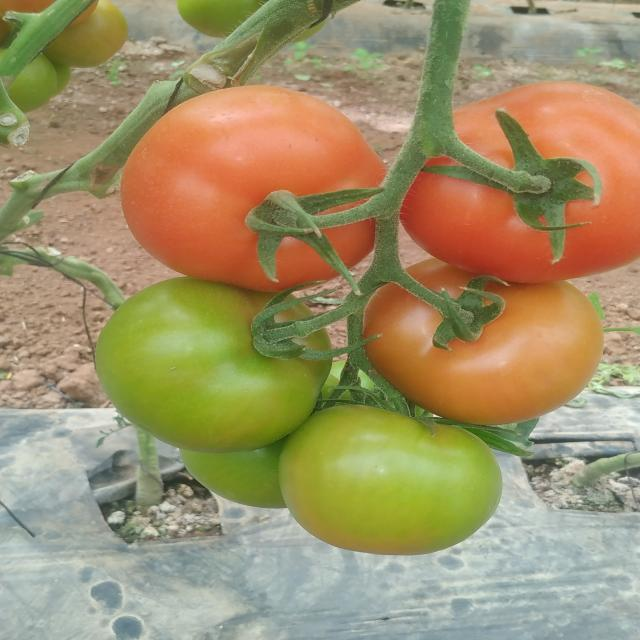Ripe Tomato: (120, 78, 390, 280), (412, 74, 640, 277), (354, 268, 606, 424)
Unripe Tomato: (94, 279, 330, 447), (293, 421, 496, 545), (188, 437, 296, 516)
